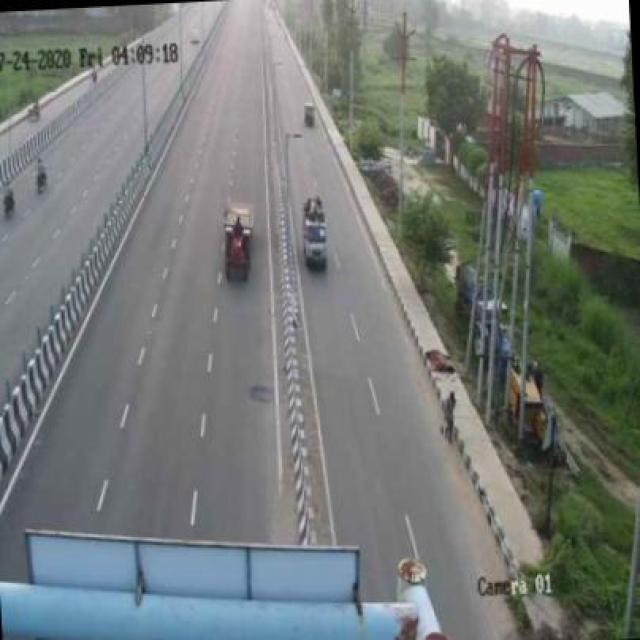car: (290, 184, 339, 277)
